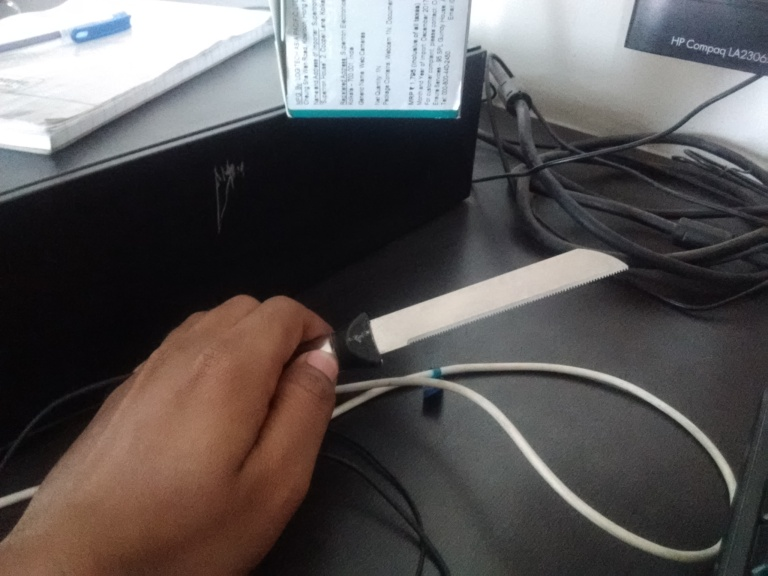knife: (341, 244, 631, 370)
